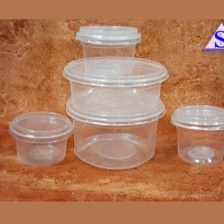plastic_box: (62, 90, 170, 174), (56, 52, 172, 124), (3, 106, 79, 171), (69, 20, 145, 80), (166, 100, 223, 168)
